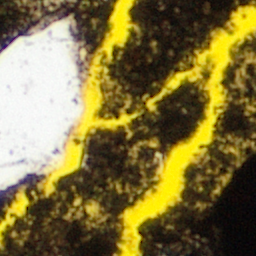cement_matrix: (0, 0, 255, 255), (140, 35, 255, 255), (0, 0, 115, 80), (84, 202, 99, 217), (145, 97, 157, 109)
cracks: (117, 5, 255, 255), (40, 0, 135, 193), (0, 188, 29, 244)
gravel_crushed_stones: (0, 22, 84, 188), (85, 203, 98, 216), (146, 98, 156, 108), (51, 0, 56, 4)
